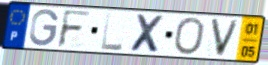F: (55, 8, 94, 50)
G: (28, 8, 61, 48)
L: (100, 12, 125, 52)
O: (172, 16, 207, 57)
V: (208, 17, 242, 59)
X: (128, 12, 167, 55)
